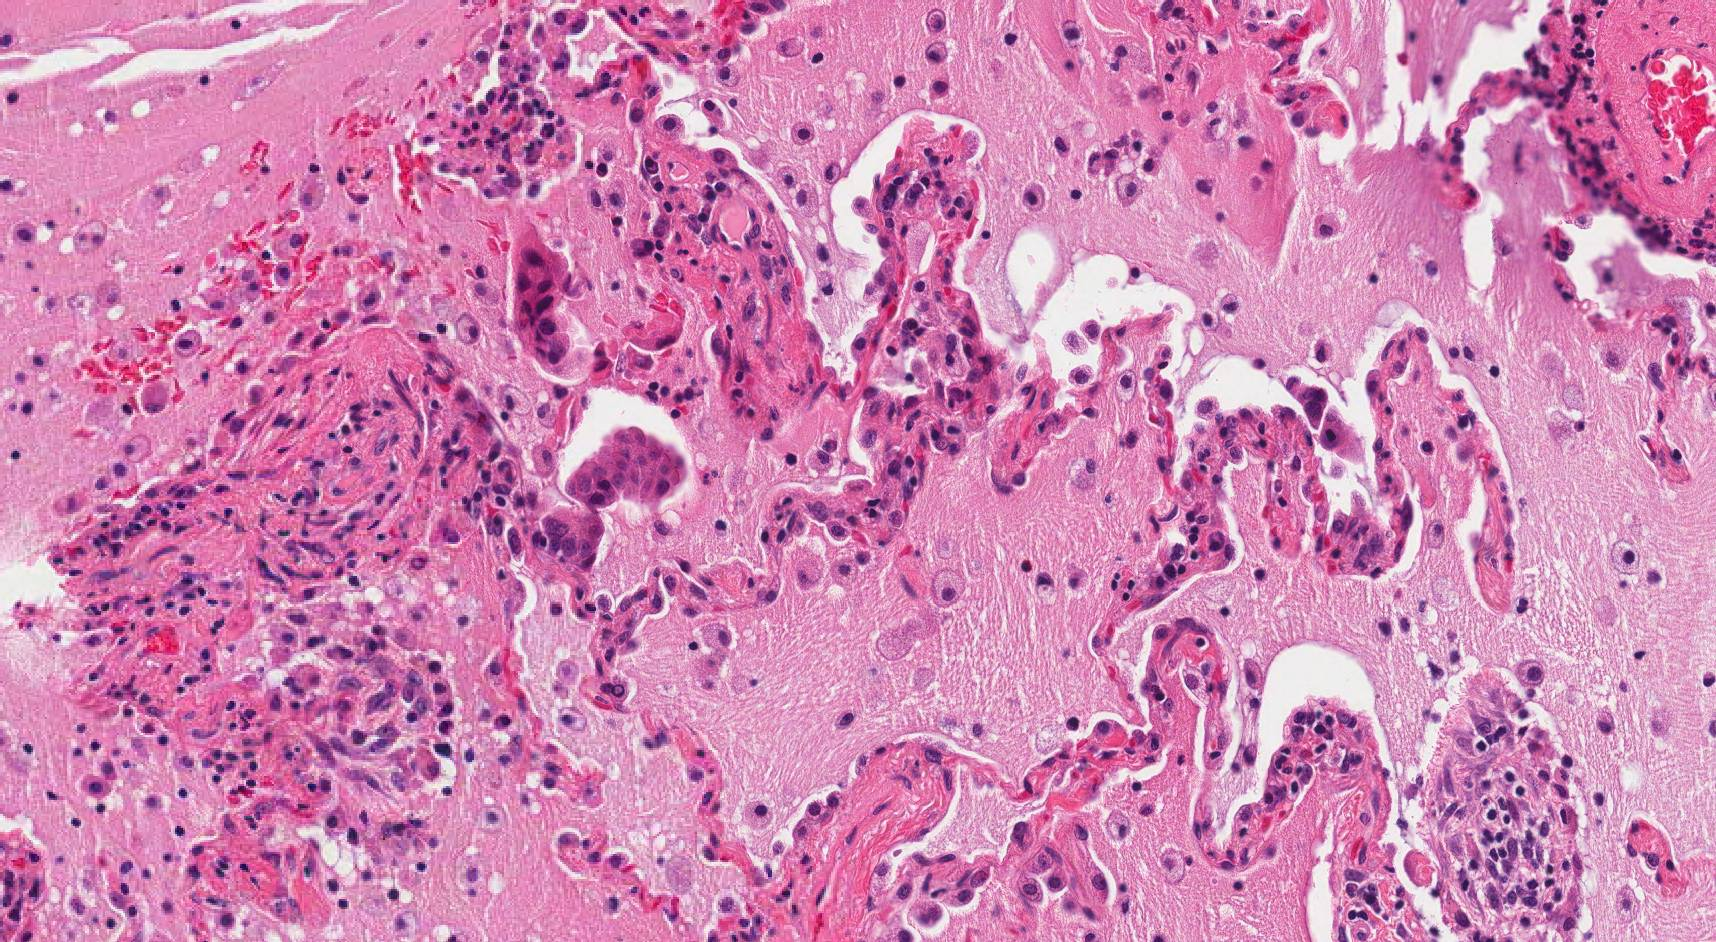stas: (563, 427, 685, 514), (513, 222, 572, 363), (544, 506, 603, 571)
